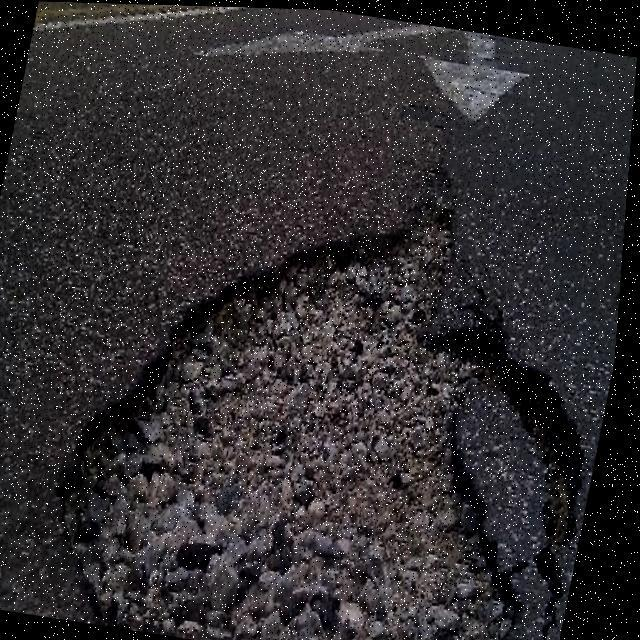pothole: (37, 141, 632, 640)
